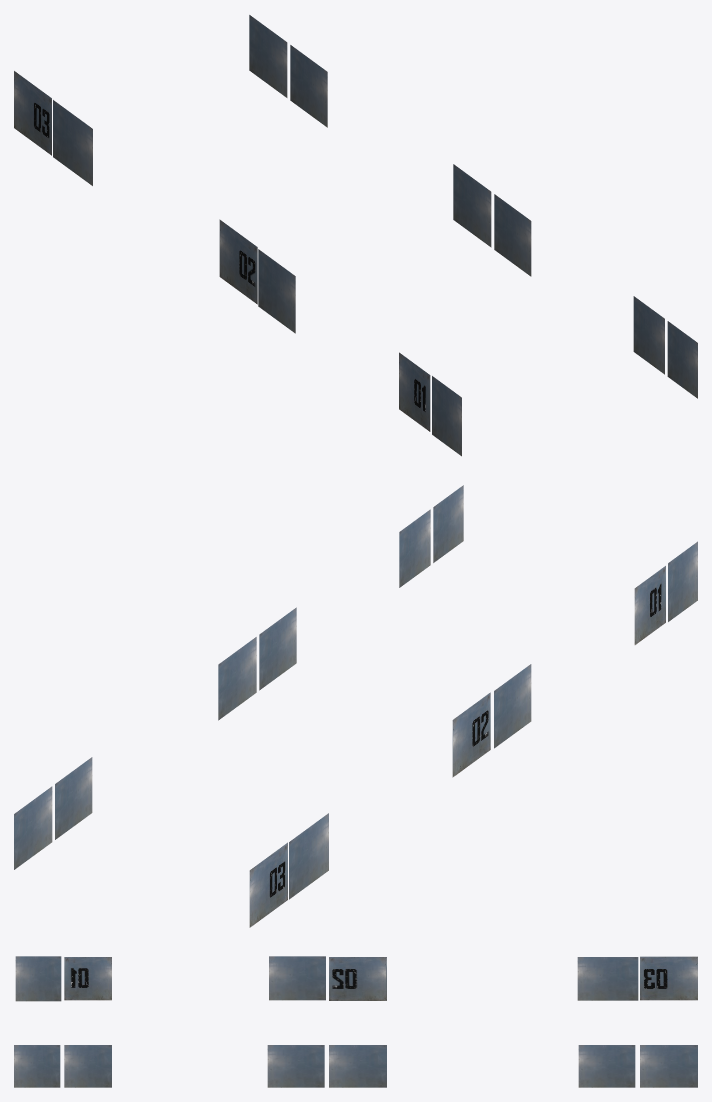
The model's file is ventanas.obj.
The picture shows the model from 3 angles, top to bottom: view 1: azimuth 30°, elevation 25°; view 2: azimuth 150°, elevation 25°; view 3: azimuth 270°, elevation 25°; orthographic projection. The views are drawn at different scales.
Visible parts, largest first — view 1: Plane.018, Plane.009, Plane.008, Plane.012, Plane.014, Plane.017, Plane.015, Plane.024, Plane.006, Plane.011, Plane.021, Plane.010; view 2: Plane.018, Plane.009, Plane.012, Plane.008, Plane.014, Plane.017, Plane.015, Plane.024, Plane.006, Plane.011, Plane.021, Plane.010; view 3: Plane.018, Plane.012, Plane.008, Plane.009, Plane.014, Plane.015, Plane.017, Plane.024, Plane.021, Plane.006, Plane.011, Plane.010.
Part boxes in pixels (left/top/right/bottom): Plane.018: left=53, top=100, right=92, bottom=185; Plane.009: left=219, top=219, right=257, bottom=304; Plane.008: left=258, top=249, right=295, bottom=333; Plane.012: left=14, top=71, right=51, bottom=155; Plane.014: left=453, top=164, right=491, bottom=247; Plane.017: left=249, top=15, right=287, bottom=97; Plane.015: left=494, top=194, right=531, bottom=276; Plane.024: left=290, top=45, right=327, bottom=127; Plane.006: left=399, top=352, right=430, bottom=431; Plane.011: left=633, top=296, right=664, bottom=374; Plane.021: left=432, top=376, right=461, bottom=456; Plane.010: left=667, top=321, right=697, bottom=398; Plane.018: left=289, top=813, right=328, bottom=899; Plane.009: left=452, top=692, right=490, bottom=777; Plane.012: left=249, top=842, right=287, bottom=927; Plane.008: left=494, top=664, right=531, bottom=748; Plane.014: left=218, top=637, right=256, bottom=720; Plane.017: left=14, top=786, right=52, bottom=869; Plane.015: left=259, top=607, right=296, bottom=690; Plane.024: left=55, top=757, right=92, bottom=839; Plane.006: left=634, top=566, right=665, bottom=644; Plane.011: left=399, top=509, right=430, bottom=587; Plane.021: left=668, top=541, right=697, bottom=621; Plane.010: left=433, top=485, right=463, bottom=562; Plane.018: left=577, top=957, right=638, bottom=1000; Plane.012: left=640, top=956, right=697, bottom=1000; Plane.008: left=269, top=956, right=325, bottom=1000; Plane.009: left=329, top=957, right=386, bottom=1000; Plane.014: left=329, top=1045, right=386, bottom=1087; Plane.015: left=267, top=1045, right=324, bottom=1087; Plane.017: left=640, top=1045, right=697, bottom=1087; Plane.024: left=578, top=1045, right=635, bottom=1087; Plane.021: left=15, top=956, right=61, bottom=1001; Plane.006: left=64, top=957, right=111, bottom=1000; Plane.011: left=64, top=1045, right=111, bottom=1087; Plane.010: left=14, top=1045, right=60, bottom=1087.
Size of the model in its own units: 15.2 by 3.64 by 50.22.
